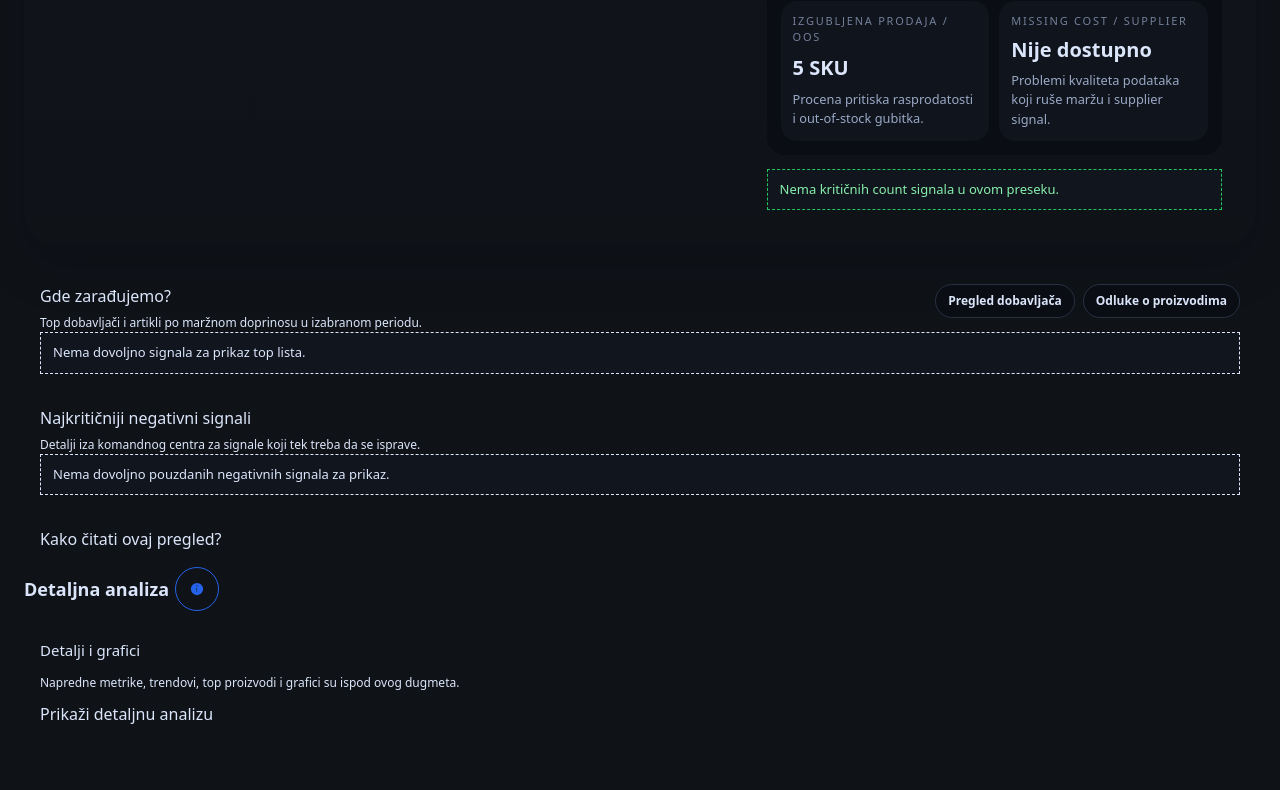
Test: AnalyticsDashboard table system › explains unavailable receipt-grain metrics while retaining sales documents
(page scrolled)
What coordinates should you click on to do the following:
click the button "Prikaži detaljnu analizu"
I would click on:
 (127, 714)
Its box is [40,702,213,726].
(page scrolled)
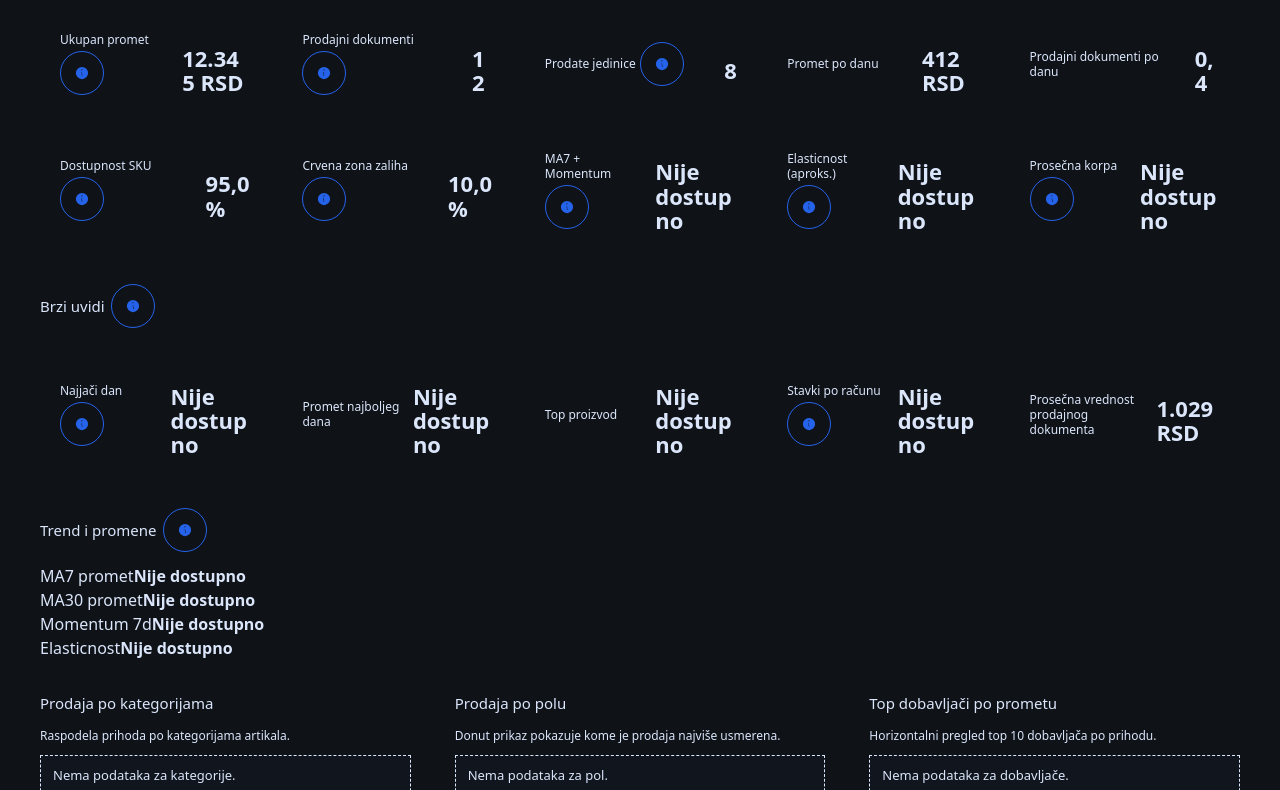
Check: the text "Prosečna korpa" is shown, box [1030,158,1117,173]
Check: the text "Prodajni dokumenti" is shown, box [302,32,414,47]
Check: the text "Stavki po računu" is shown, box [787,383,881,398]
